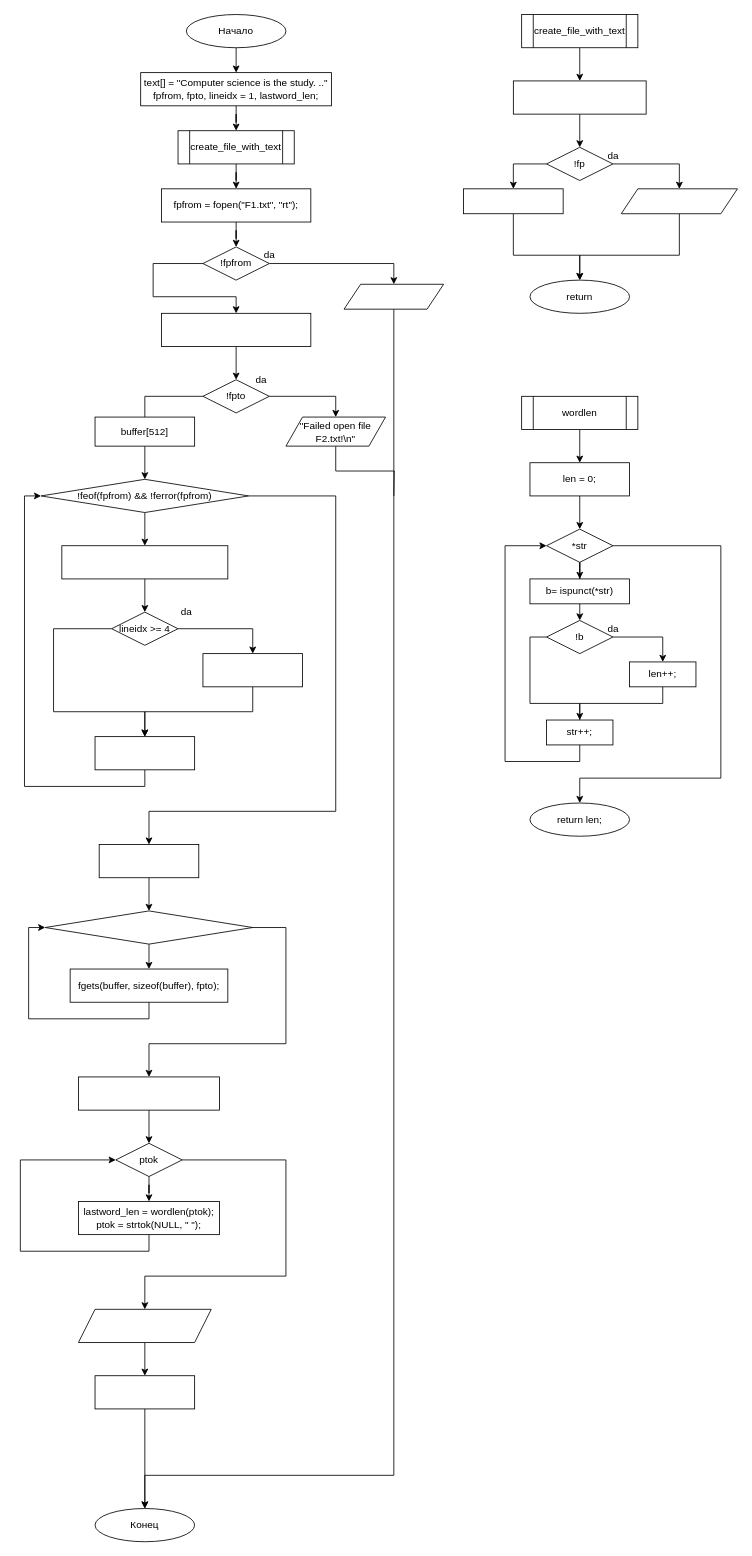
The diagram is 752 pixels wide and 1556 high, and some of its shapes have lost their labels. Here are the shapes that lost their labels. From the top down, the centre of each, then its label:
point 579,97: fp = fopen(filename, "wt")
point 513,201: fputs(text, fp); fclose(fp);
point 678,201: "Failed to open file!\n"
point 393,296: "Failed open file F1.txt!\n"
point 236,329: fpto = fopen("F2.txt", "w+");
point 144,562: fgets(buffer, sizeof(buffer), fpfrom);
point 252,670: fputs(buffer, fpto);
point 144,753: lineidx++;
point 148,861: fclose(fpfrom); rewind(fpto);
point 148,927: !feof(fpto) && !ferror(fpto)
point 149,1093: ptok = strtok(buffer, " ");
point 144,1325: вывод lastword_len
point 144,1392: fclose(fpto);
